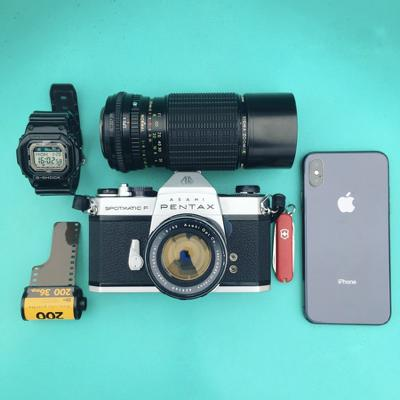Mobile Phone: (301, 149, 391, 325)
